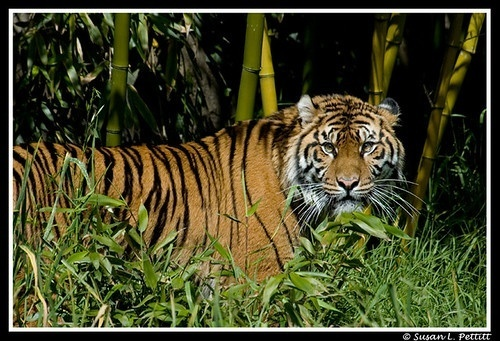tigre: (14, 92, 411, 302)
